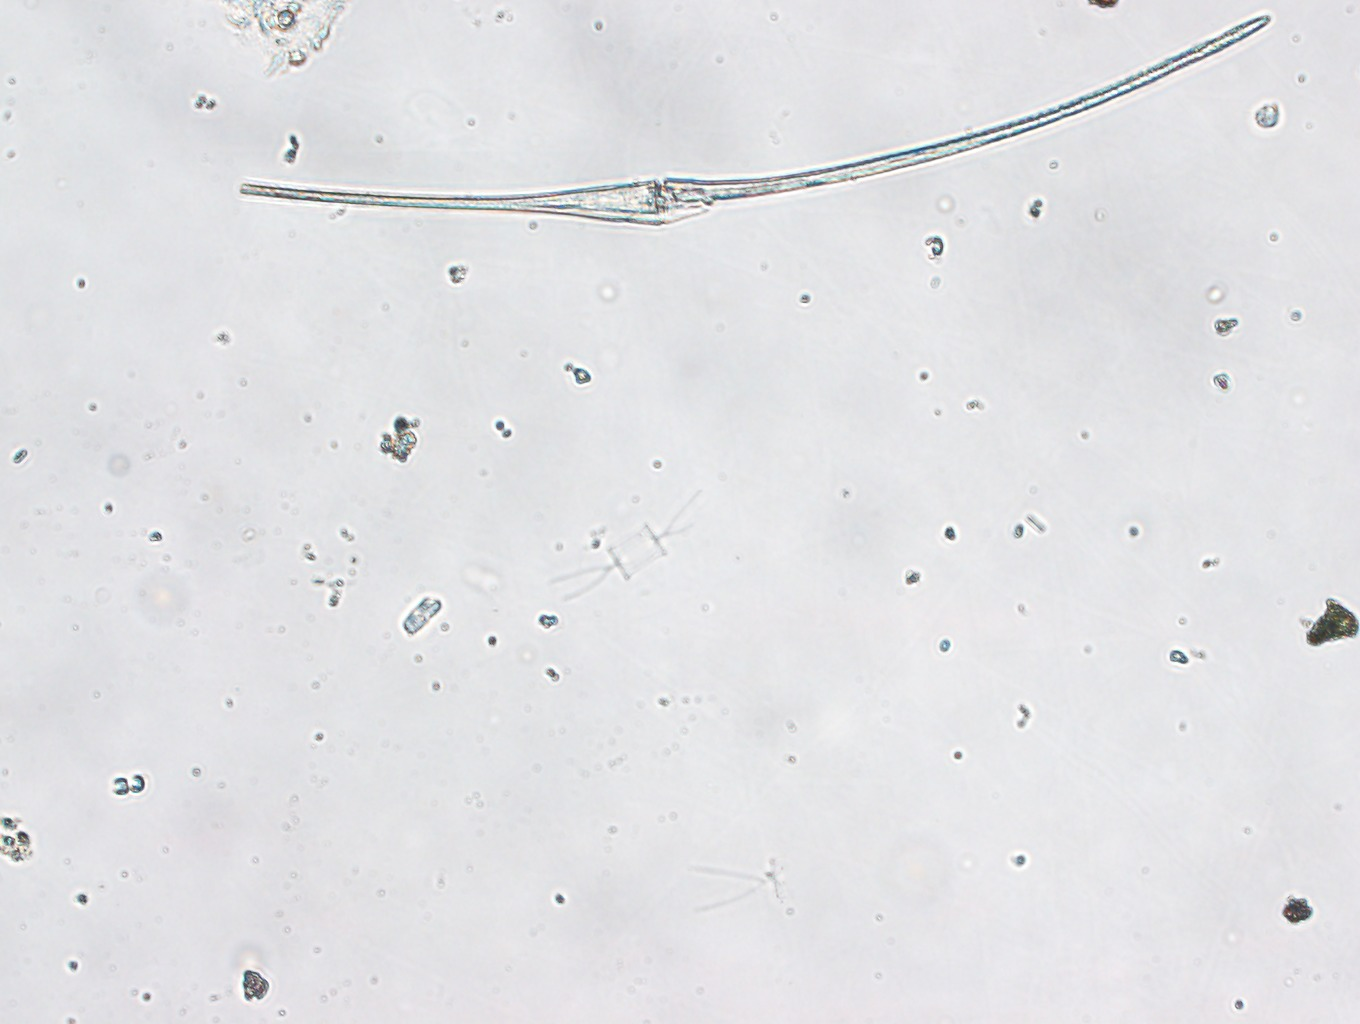ceratium fusus: (230, 17, 1297, 223)
